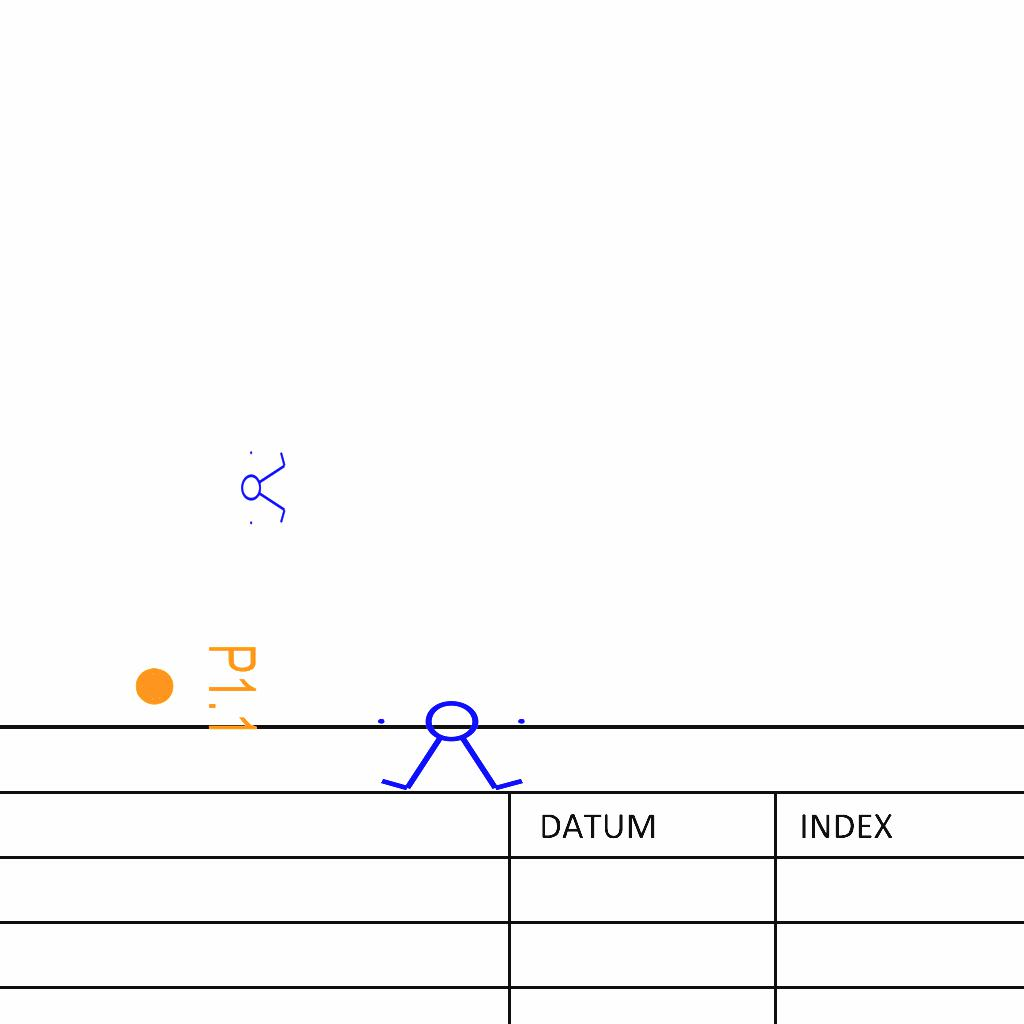Downlight_LED_Einbauleuchten_Flur: (132, 643, 260, 736)
Serienschalter: (369, 699, 537, 795), (240, 445, 288, 529)
